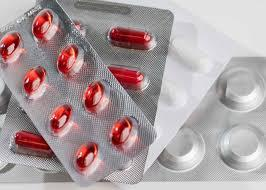pill_Strip: (59, 0, 237, 169), (62, 0, 236, 168), (1, 1, 154, 184), (144, 56, 265, 181), (59, 0, 175, 122), (58, 0, 173, 122), (64, 1, 173, 121), (0, 96, 64, 171), (10, 131, 53, 157), (107, 27, 155, 50), (108, 65, 148, 89), (57, 44, 83, 76), (32, 10, 58, 41), (0, 32, 23, 63)
